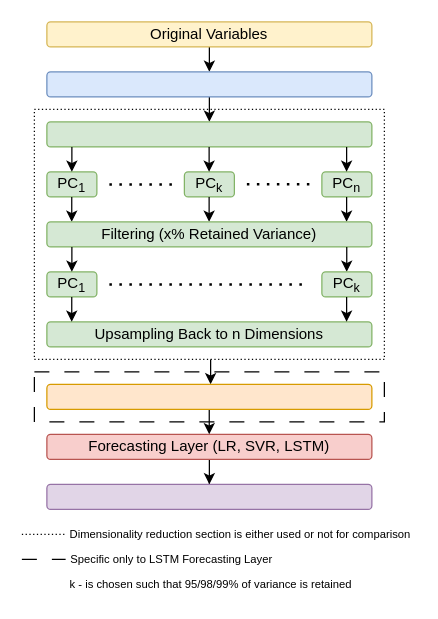
Image size: 438x619. Some labels were removed from this diagram. Here are the shapes that lost their labels. From the top down, the box of each, then its label:
(46, 71, 372, 97): Preprocessing Layer (missing values handling)
(46, 121, 372, 147): Principal Component Analysis
(46, 383, 372, 409): LSTM Reshaping Layer
(46, 483, 372, 509): Metrics Layer
